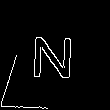N_N: (34, 29, 80, 80)
